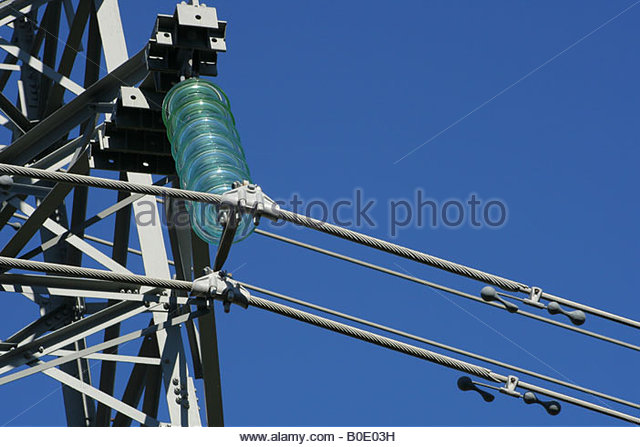isolator: (160, 77, 261, 246)
